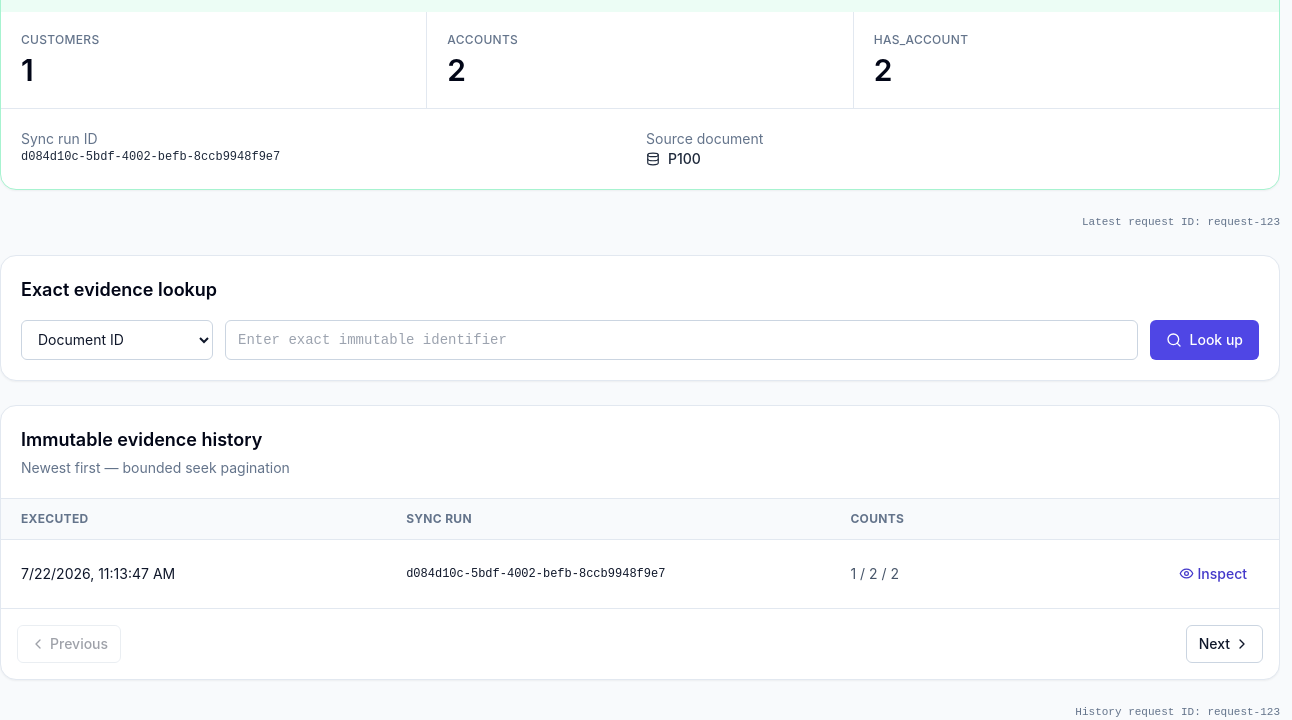
it: GraphEvidencePage › navigates forward and back with seek cursors
(page scrolled)
Click the button "Next". click: x=1224, y=644
box: [1186,624,1263,662]
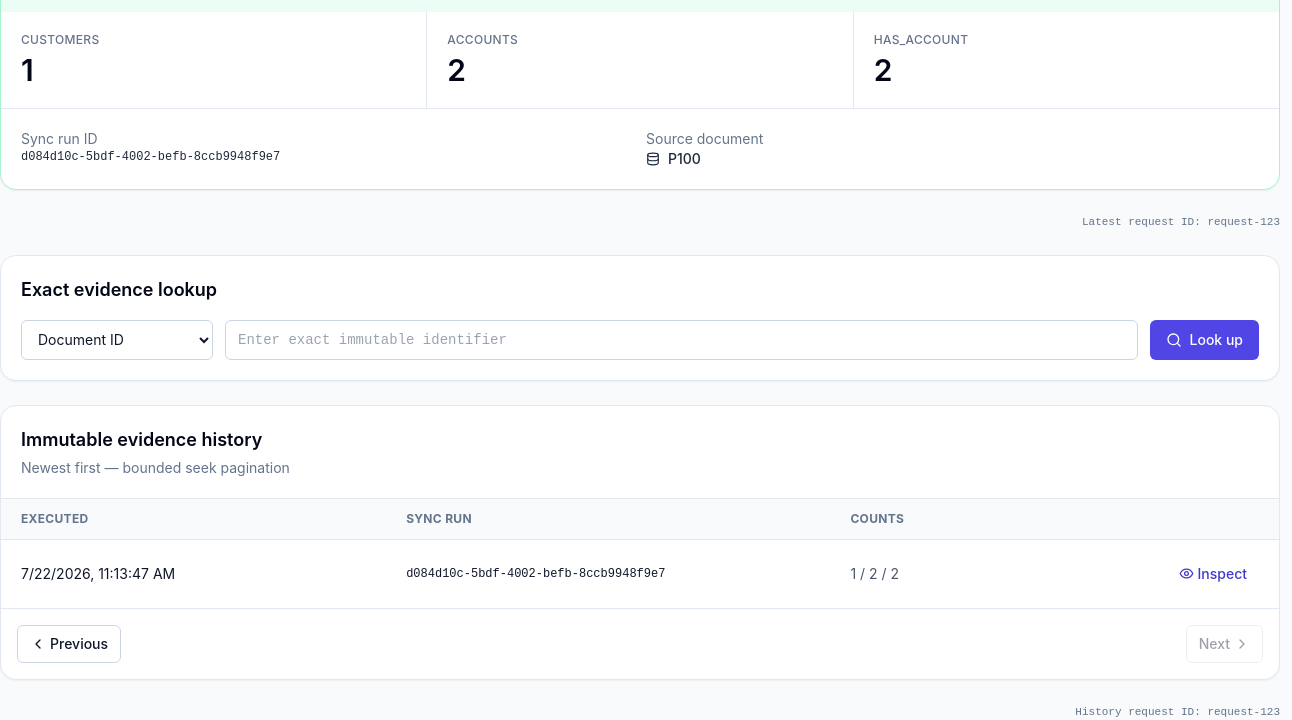
Result: the button "Previous" is enabled
Click the button "Previous". click: x=69, y=644
box: [17,624,121,662]
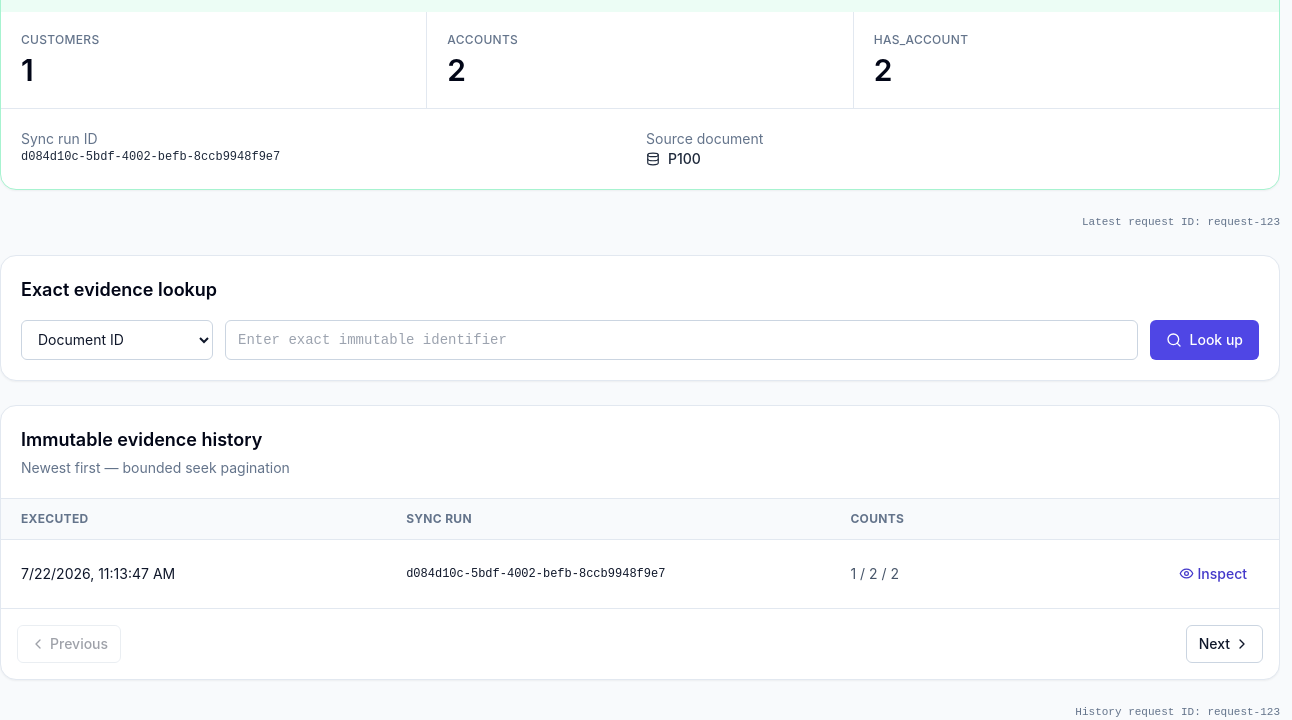
Result: the button "Previous" is disabled at [17,624,121,662]
